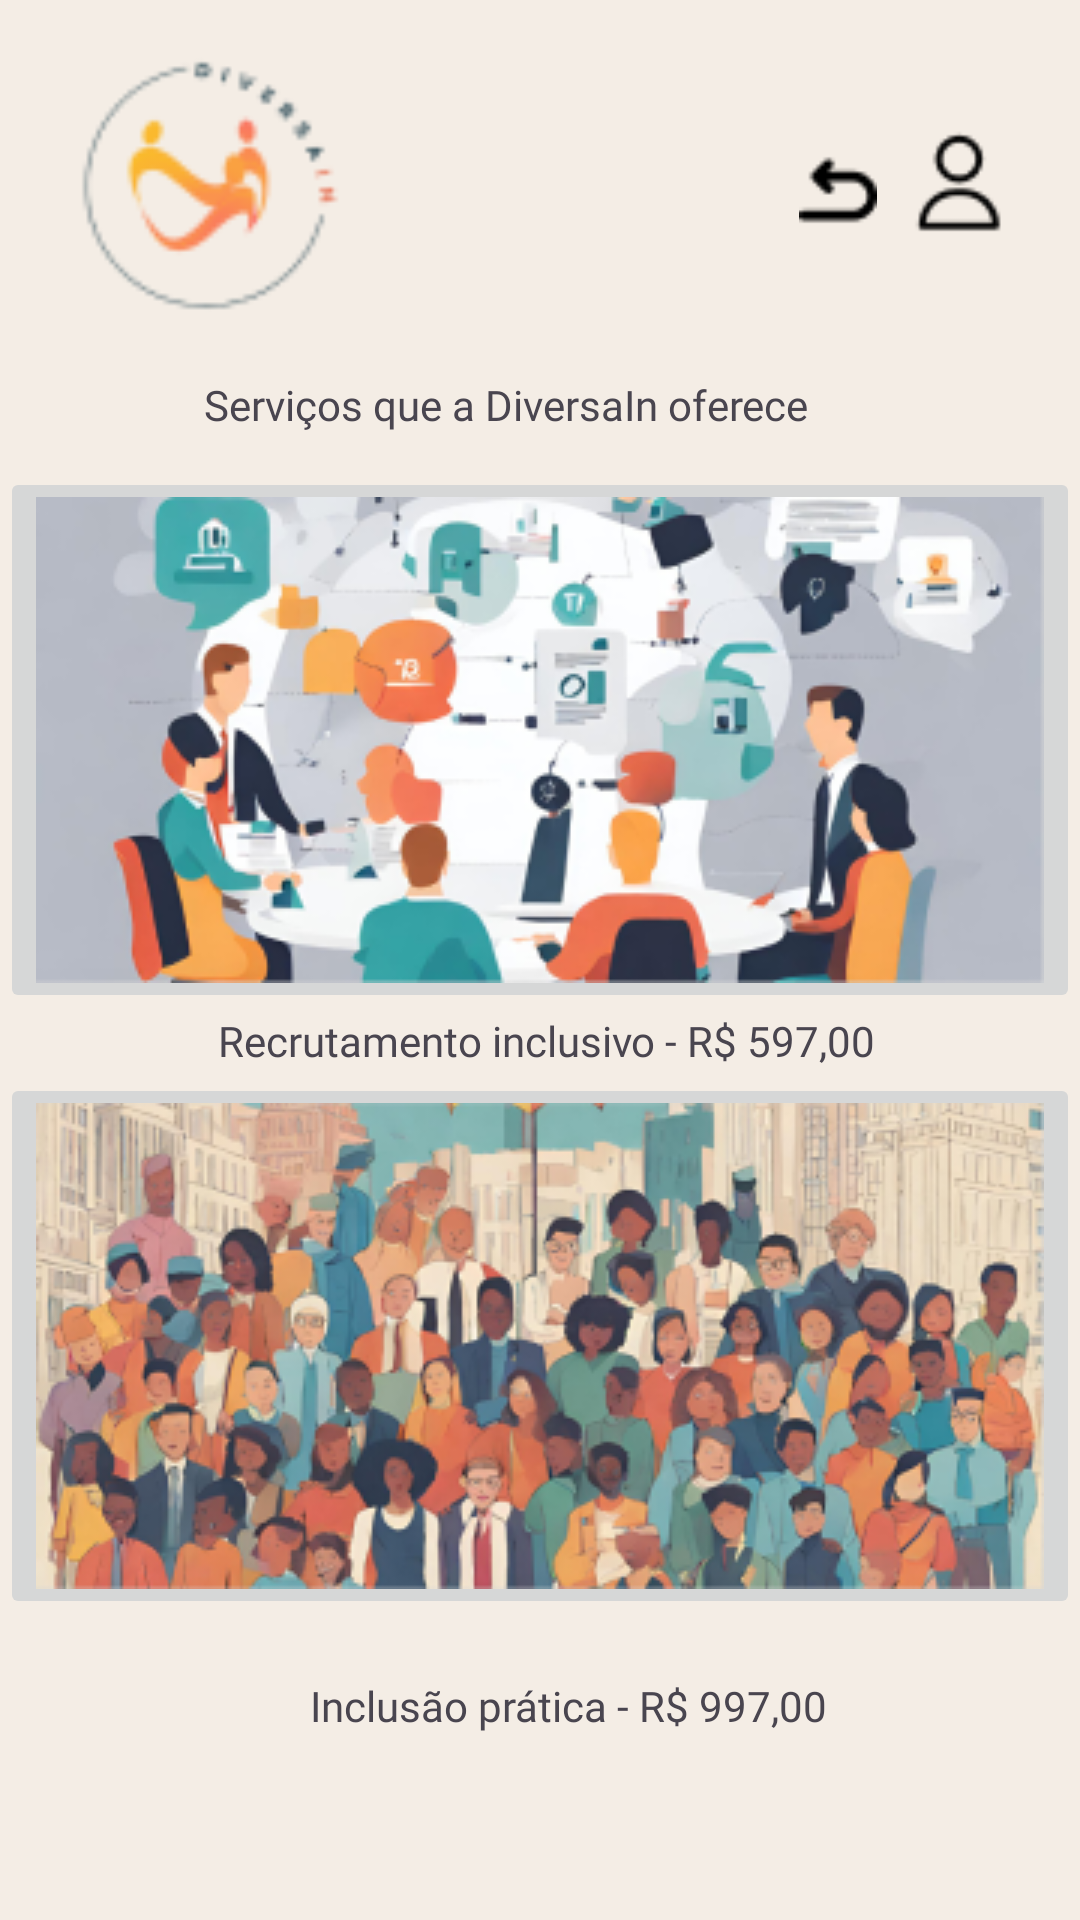

Named icons in this screenshot (1080 x 1920) and their centers, (x=x, y=y):
voltar: (x=838, y=190)
